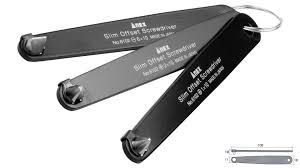screwdriver: (132, 134, 151, 157), (63, 85, 85, 103), (27, 34, 47, 53)
